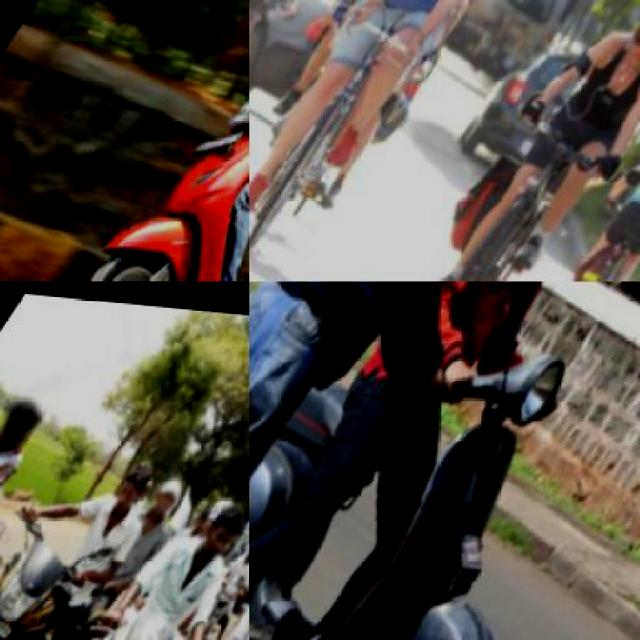With Helmet: (602, 0, 638, 85)
Without Helmet: (102, 444, 170, 524), (0, 378, 58, 455), (195, 485, 248, 566), (145, 456, 200, 522), (234, 520, 248, 577)
